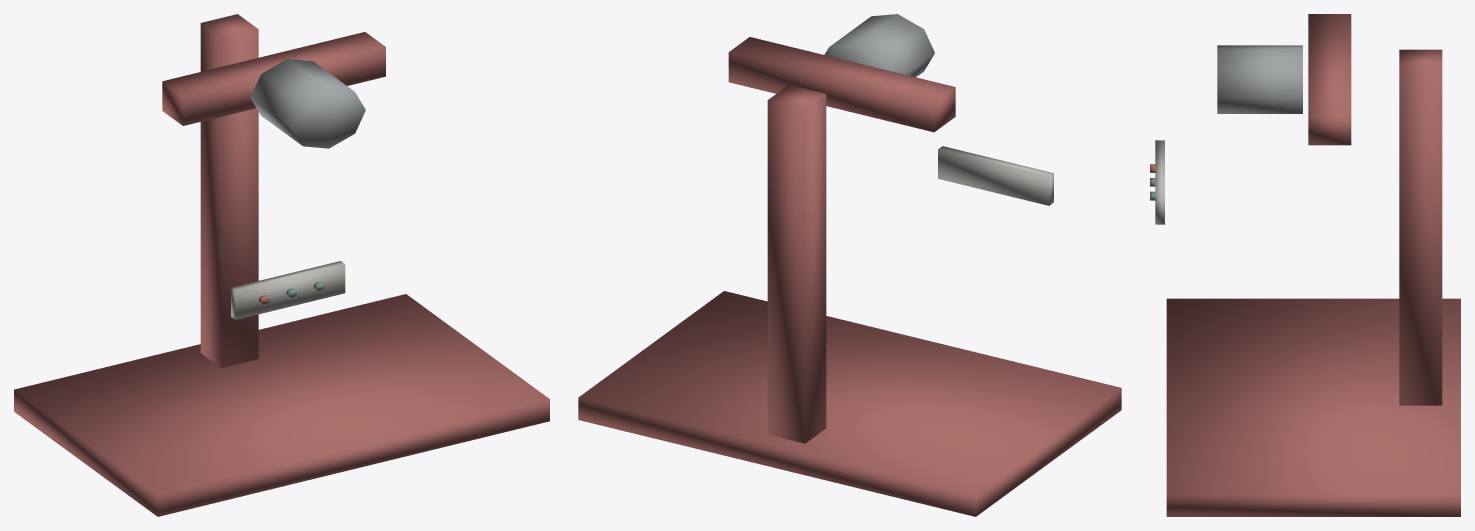
File: engine_stand__squat.glb
3 views of the same model, side by side, from view 1: azimuth 30°, elevation 25°; view 2: azimuth 150°, elevation 25°; view 3: azimuth 270°, elevation 25° (orthographic). The views are drawn at different scales.
Parts seen in each view (by area): view 1: world; view 2: world; view 3: world.
Boxes of the visible parts, left/top/right/bottom form: world: left=14, top=14, right=549, bottom=516; world: left=578, top=14, right=1121, bottom=516; world: left=1150, top=14, right=1460, bottom=516.
Bounding box in the file's own units: 0.935 × 0.8232 × 0.6275.
